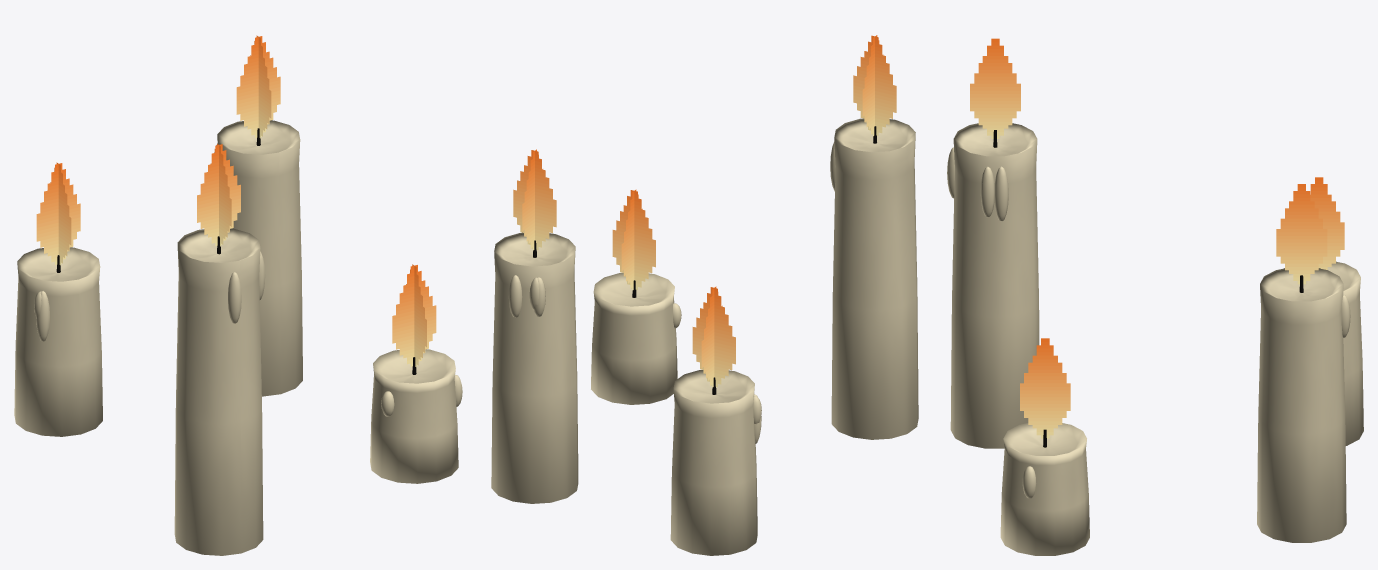
The model's file is floorCandles.glb.
The picture shows the model from 3 angles, left to right: view 1: azimuth 30°, elevation 25°; view 2: azimuth 150°, elevation 25°; view 3: azimuth 270°, elevation 25°; orthographic projection.
Visible parts, largest first — view 1: floorCandles; view 2: floorCandles; view 3: floorCandles.
Boxes of the visible parts, box(x1,y1,x2,y2) form: floorCandles: box(14, 35, 462, 555); floorCandles: box(491, 35, 918, 555); floorCandles: box(947, 38, 1363, 555).
Bounding box in the file's own units: 0.2533 × 0.3271 × 0.3074.
3 materials, 2 textured.
